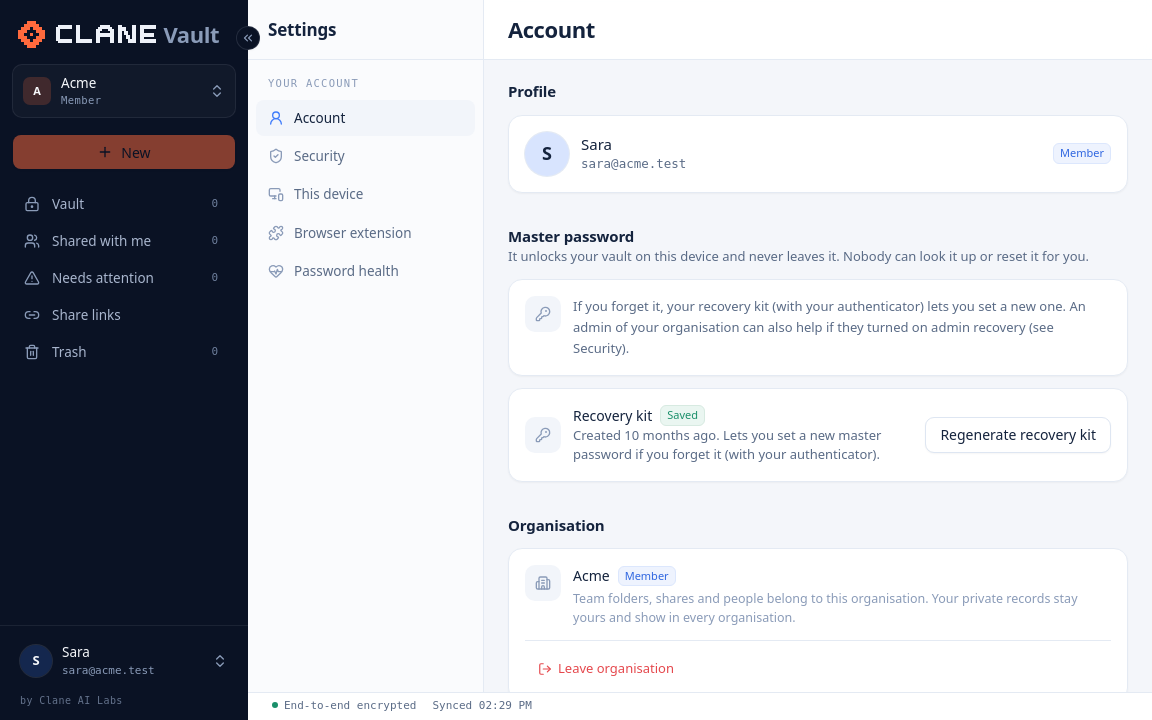
Test: every page has a URL › members get Settings with their own sections; /settings opens Account on a desktop
The width and height of the screenshot is (1152, 720).
Check: the heading "Account" is shown, box [508, 14, 595, 44]
Click the link "Security": (306, 156) [268, 147, 345, 165]
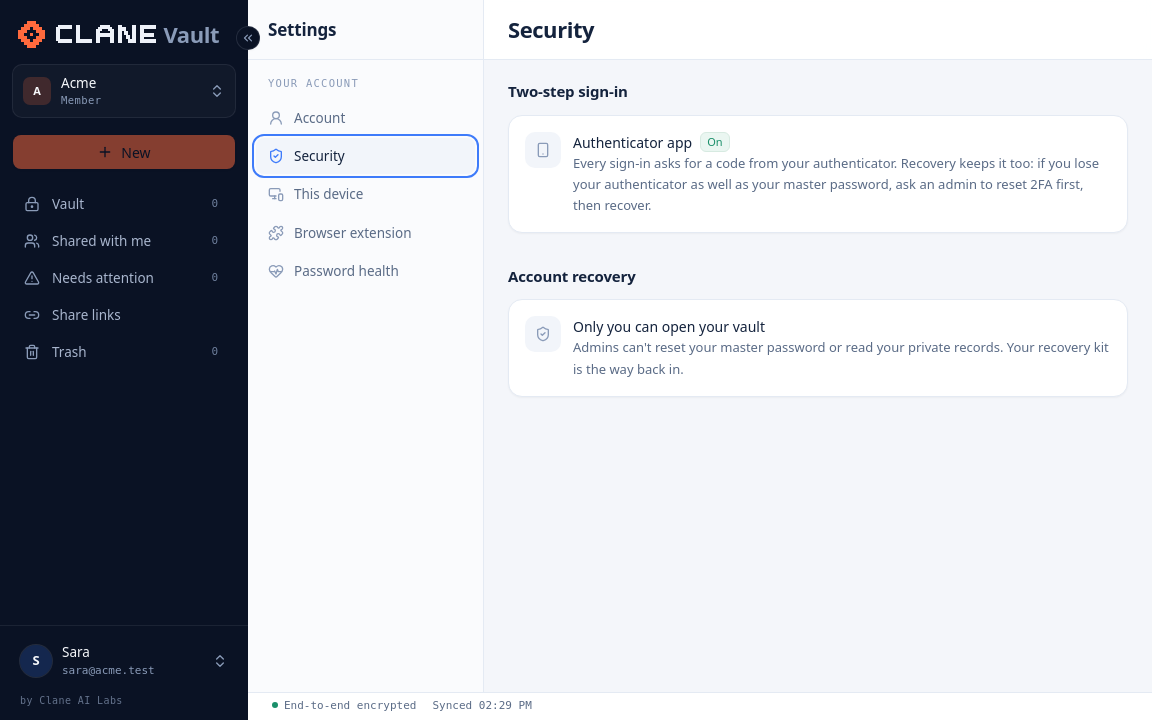
Check: the element named "Who can recover your vault" is shown, box [508, 299, 1128, 397]
